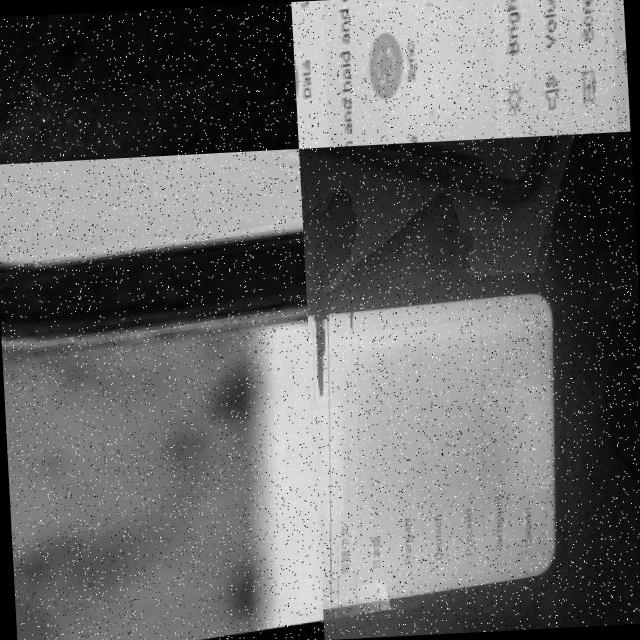dead pixel: (306, 305, 364, 428)
screen crack: (0, 1, 298, 164)
